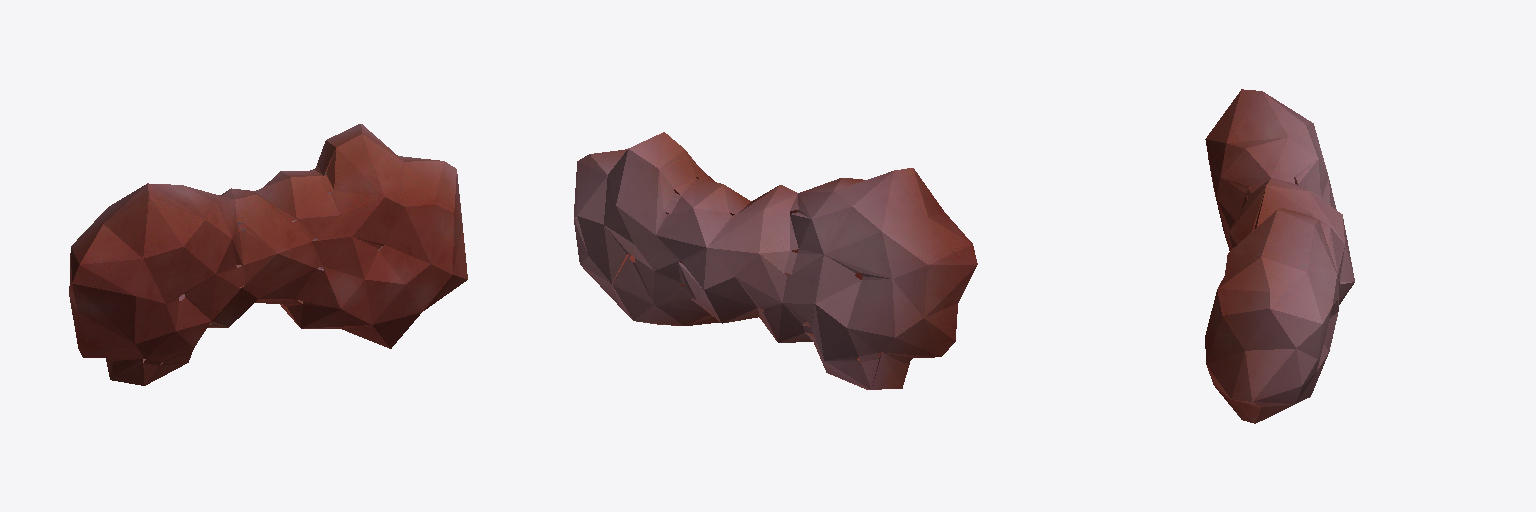
3 views of the same model, side by side, from view 1: azimuth 30°, elevation 25°; view 2: azimuth 150°, elevation 25°; view 3: azimuth 270°, elevation 25° (orthographic).
Parts seen in each view (by area): view 1: Low_res_Glyoxyl.1; view 2: Low_res_Glyoxyl.1; view 3: Low_res_Glyoxyl.1.
Boxes of the visible parts, x1=… form: Low_res_Glyoxyl.1: x1=69, y1=124, x2=467, y2=385; Low_res_Glyoxyl.1: x1=574, y1=132, x2=977, y2=389; Low_res_Glyoxyl.1: x1=1205, y1=89, x2=1354, y2=423.
Size of the model in its own units: 6.21 by 3.25 by 2.05.
1 materials, 1 textured.